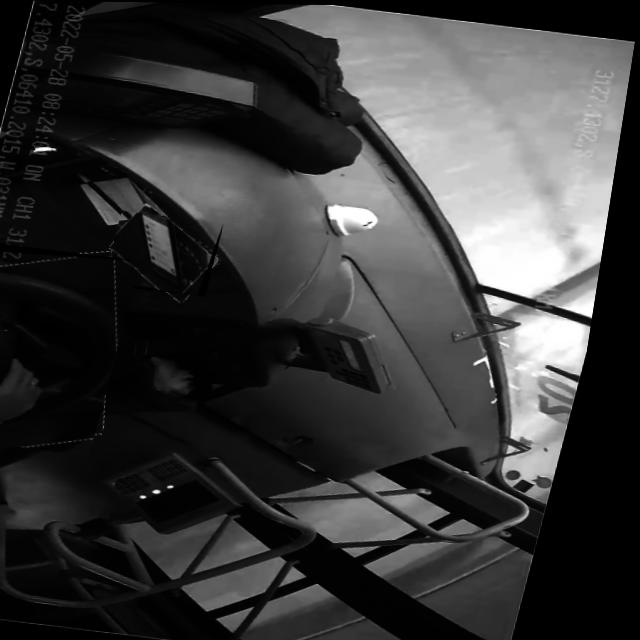phone: (109, 210, 230, 295)
wheel: (0, 240, 150, 455)
